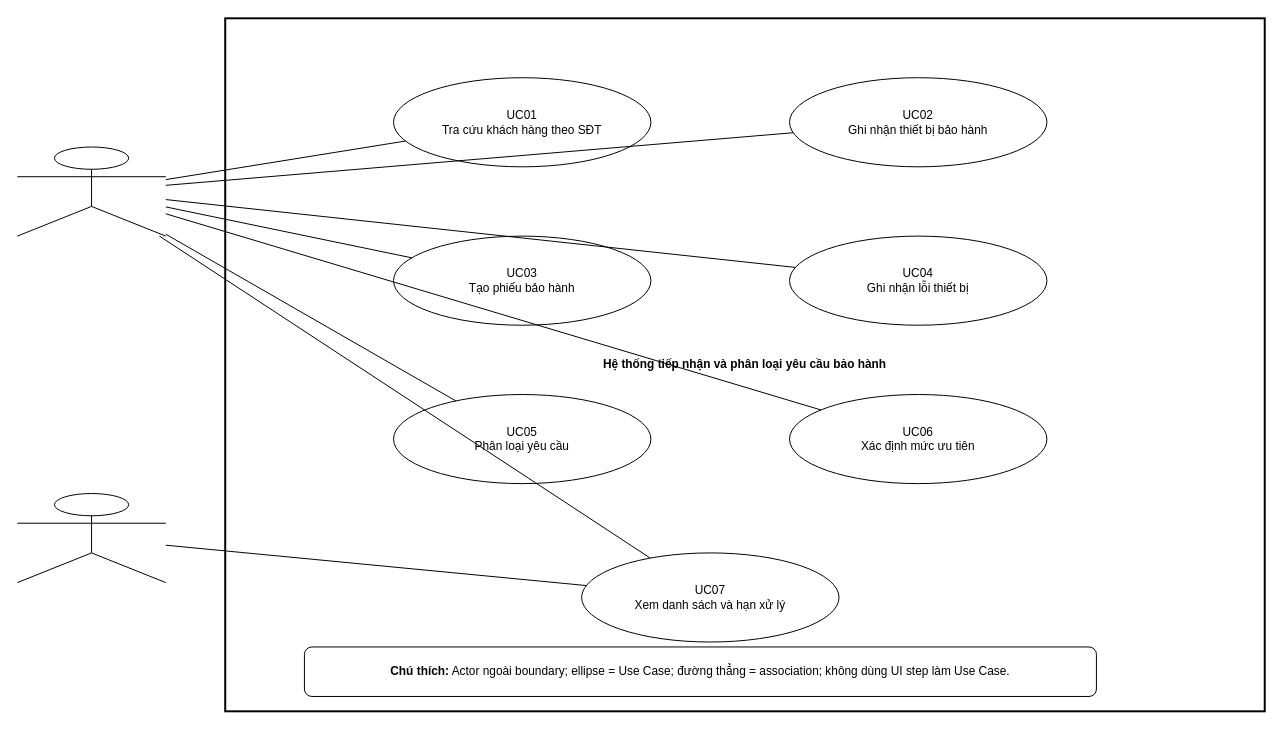
Some shapes in this 1283 by 729 pixel diagram are drawn without their labels. Each missing label, with the centre of its shape:
"Nhân viên tiếp nhận" belongs at (91,191).
"Quản lý trung tâm" belongs at (91,538).
